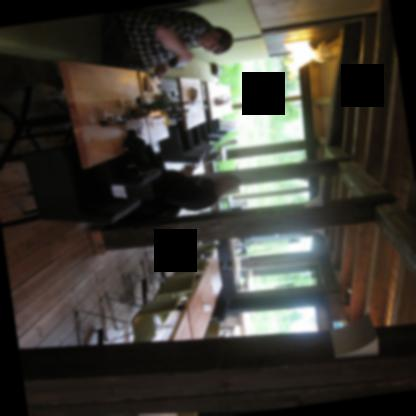backpack: (102, 128, 150, 177)
